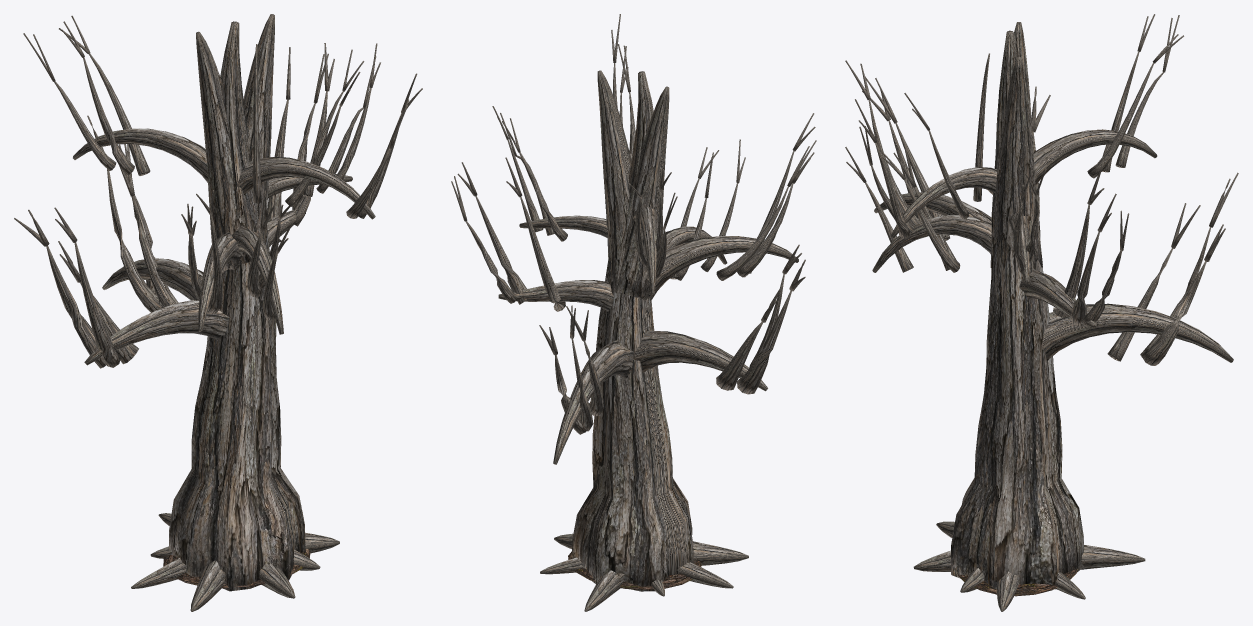
File: lightning-split-v02.glb
3 views of the same model, side by side, from view 1: azimuth 30°, elevation 25°; view 2: azimuth 150°, elevation 25°; view 3: azimuth 270°, elevation 25° (orthographic). The views are drawn at different scales.
Visible parts, largest first — view 1: deeply furrowed winding trunk, lightning split twin leader, lightning split twin leader.001, massive gnarled bough.004, massive gnarled bough.003, massive gnarled bough.007, massive gnarled bough.002, massive gnarled bough.005, massive gnarled bough.006, forked weathered limb.008, forked weathered limb.013, forked weathered limb.012 (+18 smaller); view 2: deeply furrowed winding trunk, lightning split twin leader, lightning split twin leader.001, massive gnarled bough.004, massive gnarled bough.002, massive gnarled bough.005, massive gnarled bough.001, forked weathered limb.012, massive gnarled bough.003, massive gnarled bough, forked weathered limb.004, forked weathered limb.014 (+13 smaller); view 3: deeply furrowed winding trunk, lightning split twin leader.001, massive gnarled bough.002, massive gnarled bough.003, massive gnarled bough.006, massive gnarled bough.007, massive gnarled bough.001, forked weathered limb.006, radiating buttress root.002, massive gnarled bough.005, forked weathered limb.004, forked weathered limb.010 (+16 smaller).
Boxes of the visible parts, x1,y1,x2,y2 form: deeply furrowed winding trunk: (169, 21, 305, 591); lightning split twin leader: (196, 31, 251, 266); lightning split twin leader.001: (240, 14, 274, 261); massive gnarled bough.004: (84, 299, 229, 365); massive gnarled bough.003: (73, 128, 208, 183); massive gnarled bough.007: (236, 157, 375, 219); massive gnarled bough.002: (102, 258, 203, 300); massive gnarled bough.005: (198, 232, 242, 331); massive gnarled bough.006: (229, 226, 283, 334); forked weathered limb.008: (107, 169, 162, 312); forked weathered limb.013: (74, 242, 120, 367); forked weathered limb.012: (46, 245, 108, 368); deeply furrowed winding trunk: (571, 71, 693, 591); lightning split twin leader: (616, 86, 669, 297); lightning split twin leader.001: (597, 70, 637, 293); massive gnarled bough.004: (633, 331, 767, 391); massive gnarled bough.002: (553, 340, 633, 464); massive gnarled bough.005: (640, 236, 798, 301); massive gnarled bough.001: (498, 280, 613, 311); forked weathered limb.012: (737, 291, 791, 394); massive gnarled bough.003: (633, 204, 656, 294); massive gnarled bough: (519, 215, 607, 237); forked weathered limb.004: (520, 197, 565, 311); forked weathered limb.014: (716, 322, 762, 390); deeply furrowed winding trunk: (951, 30, 1083, 589); lightning split twin leader.001: (990, 56, 1042, 269); massive gnarled bough.002: (1041, 303, 1233, 362); massive gnarled bough.003: (1033, 129, 1157, 186); massive gnarled bough.006: (872, 215, 991, 272); massive gnarled bough.007: (890, 167, 997, 238); massive gnarled bough.001: (1019, 269, 1096, 327); forked weathered limb.006: (1141, 261, 1206, 365); radiating buttress root.002: (1081, 545, 1145, 569); massive gnarled bough.005: (874, 192, 991, 254); forked weathered limb.004: (1053, 205, 1089, 317); forked weathered limb.010: (1087, 62, 1153, 178).
Bounding box in the file's own units: 6.63 × 9.86 × 6.51.
3 materials, 3 textured.
